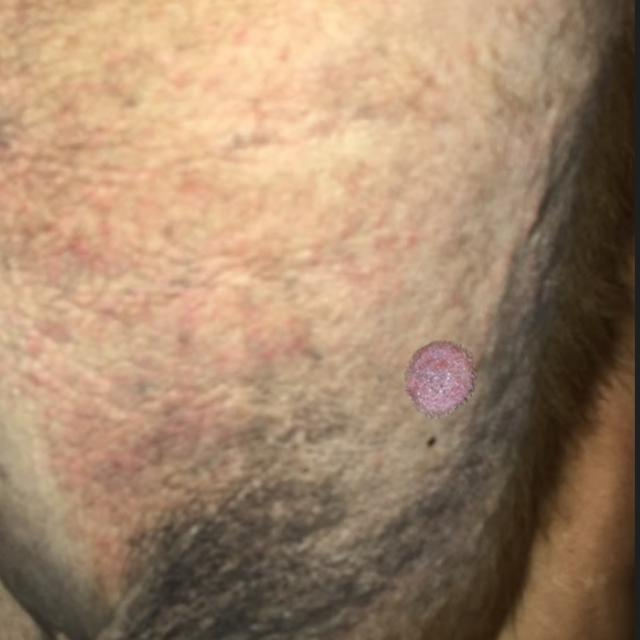ringworm: (392, 336, 488, 433)
